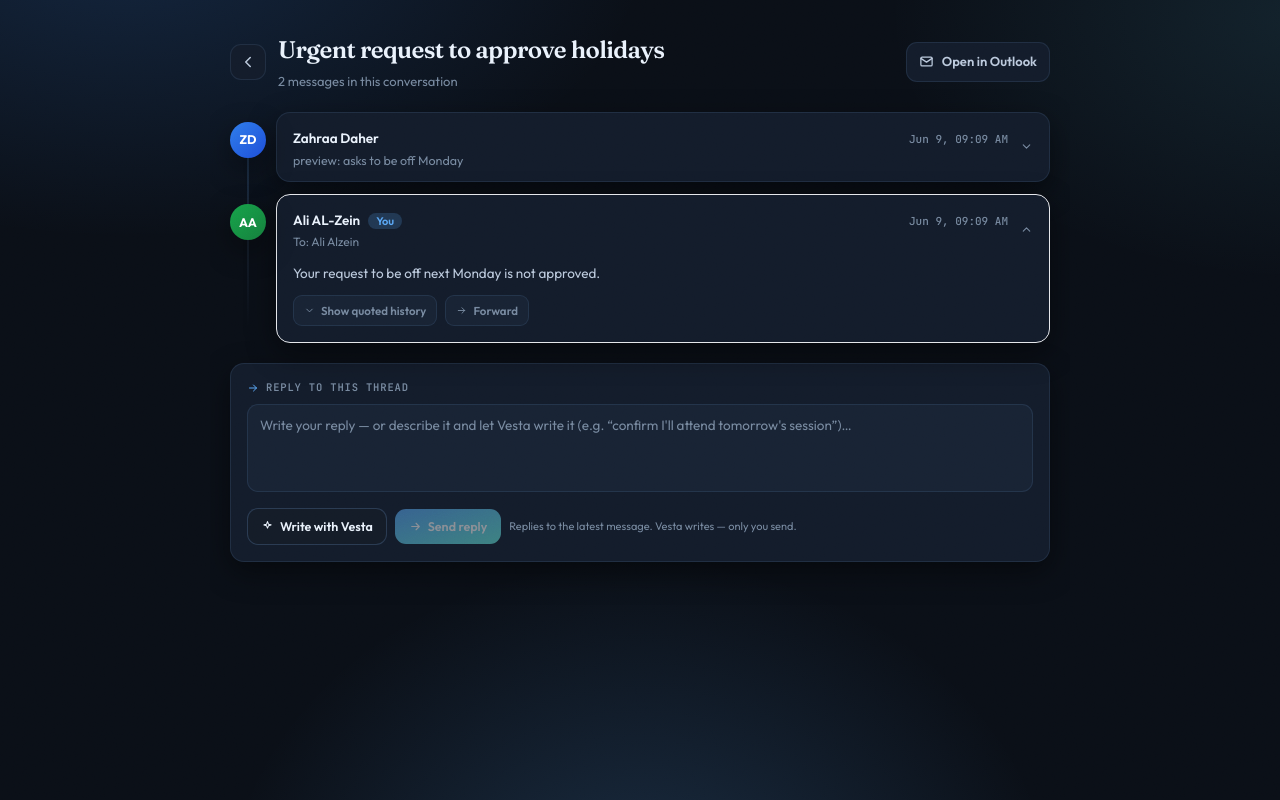
it: ThreadView › sends a MANUAL reply through the draft pipeline (works without a radar item)
In the text box named "Reply text": coordinates (640, 448) [247,404,1033,492], type "Approved, see you Monday."
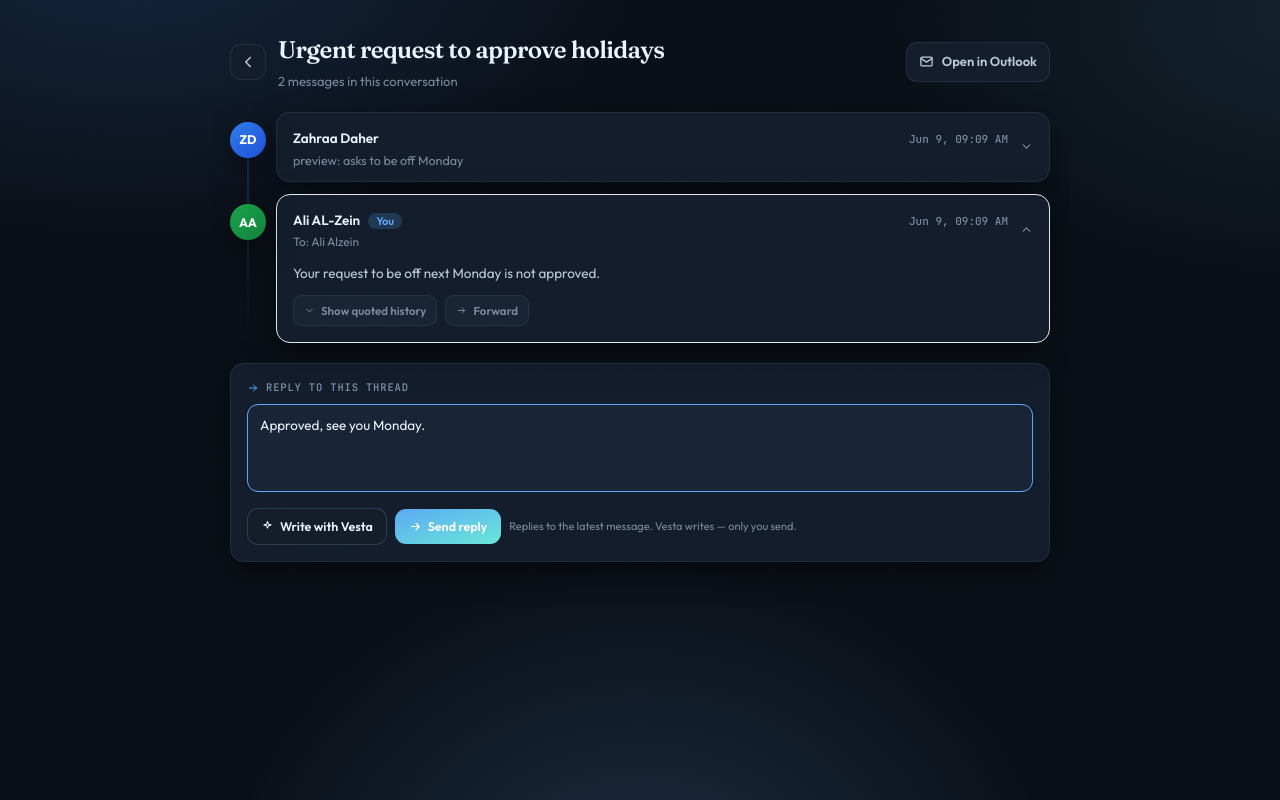
Click the button "Send reply": coordinates (448, 526) [395,509,501,544]
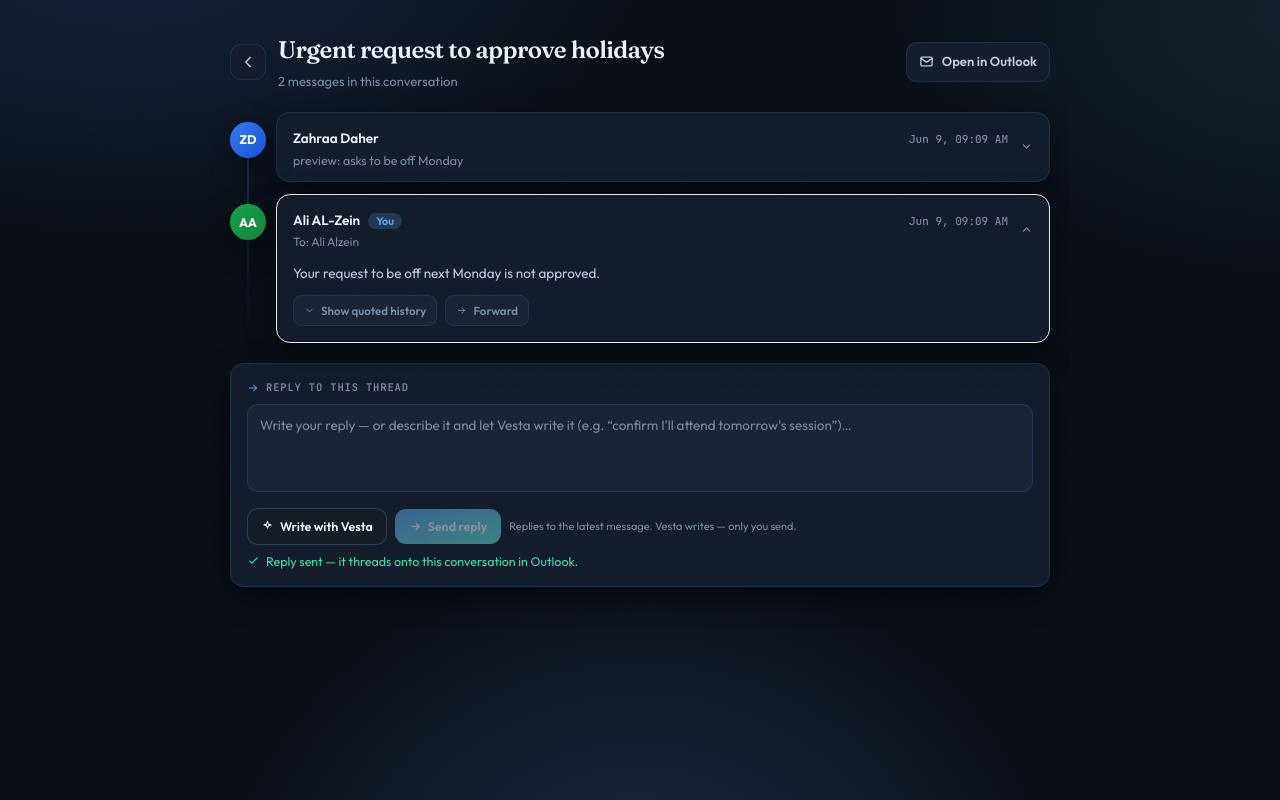
Expected: the text "Reply sent — it threads onto this conversation in Outlook." is shown, [247,553,578,569]
Expected: the text box named "Reply text" is empty, [247,404,1033,492]
